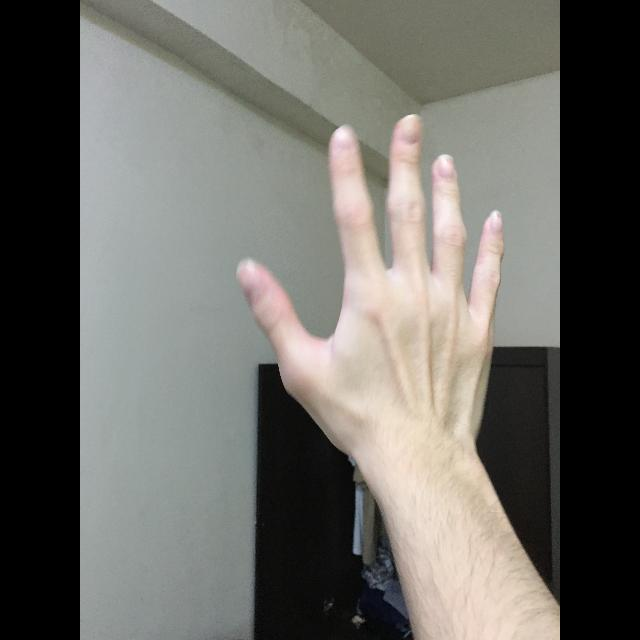bare_hand: (236, 113, 505, 445)
